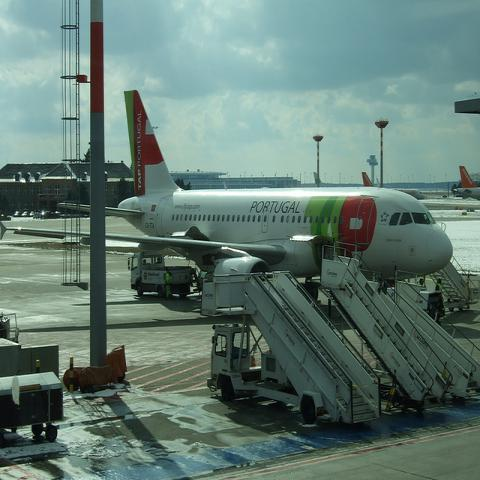truck: (200, 270, 380, 424), (127, 251, 193, 300)
